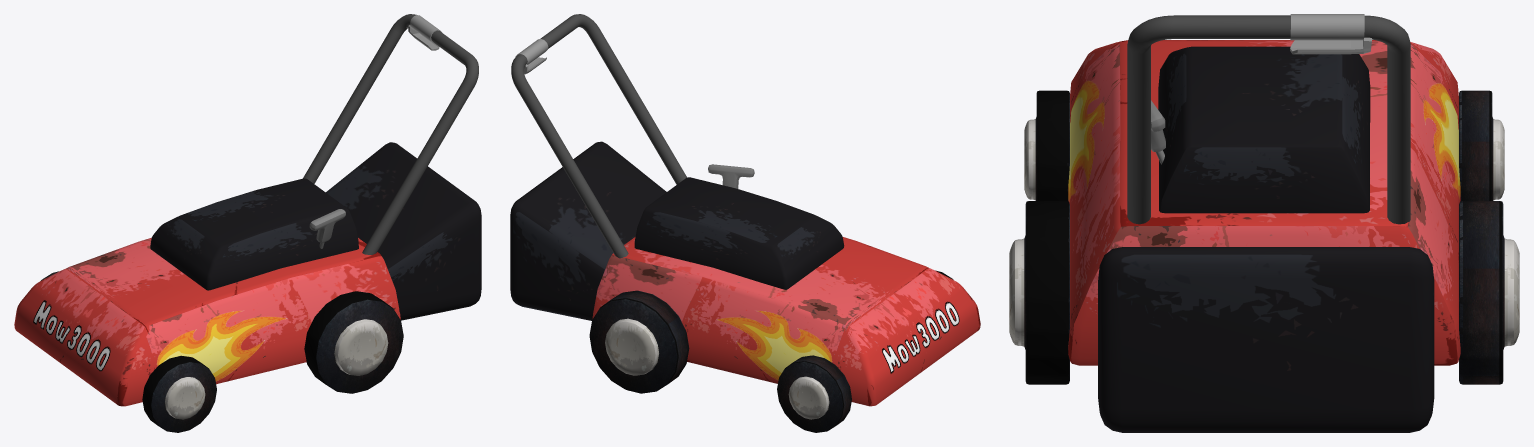
File: LawnMower.fbx
3 views of the same model, side by side, from view 1: azimuth 30°, elevation 25°; view 2: azimuth 150°, elevation 25°; view 3: azimuth 270°, elevation 25° (orthographic). The views are drawn at different scales.
Visible parts, largest first — view 1: Body, Bucket, Engine, Wheel_Rear_L, Handel, Wheel_Front_L, Starter; view 2: Body, Bucket, Engine, Wheel_Rear_R, Handel, Wheel_Front_R, Starter; view 3: Bucket, Body, Engine, Handel, Wheel_Rear_R, Wheel_Rear_L, Wheel_Front_R, Wheel_Front_L, Starter.
Boxes of the visible parts, x1,y1,x2,y2 form: Body: (14, 237, 400, 406); Bucket: (326, 142, 481, 320); Engine: (150, 178, 358, 290); Wheel_Rear_L: (304, 291, 403, 393); Handel: (303, 14, 478, 254); Wheel_Front_L: (142, 355, 216, 432); Starter: (309, 209, 345, 248); Body: (592, 237, 980, 406); Bucket: (510, 141, 666, 320); Engine: (634, 177, 844, 289); Wheel_Rear_R: (589, 290, 689, 393); Handel: (511, 14, 686, 258); Wheel_Front_R: (777, 355, 851, 432); Starter: (708, 164, 754, 188); Bucket: (1098, 247, 1434, 432); Body: (1068, 40, 1460, 365); Engine: (1158, 46, 1370, 213); Handel: (1127, 14, 1410, 224); Wheel_Rear_R: (1459, 201, 1519, 384); Wheel_Rear_L: (1009, 201, 1069, 384); Wheel_Front_R: (1459, 90, 1504, 201); Wheel_Front_L: (1024, 90, 1069, 201); Starter: (1151, 100, 1165, 164).
Size of the model in its own units: 68.82 by 46.66 by 43.85.
Materials: 11 (7 with a texture image).
